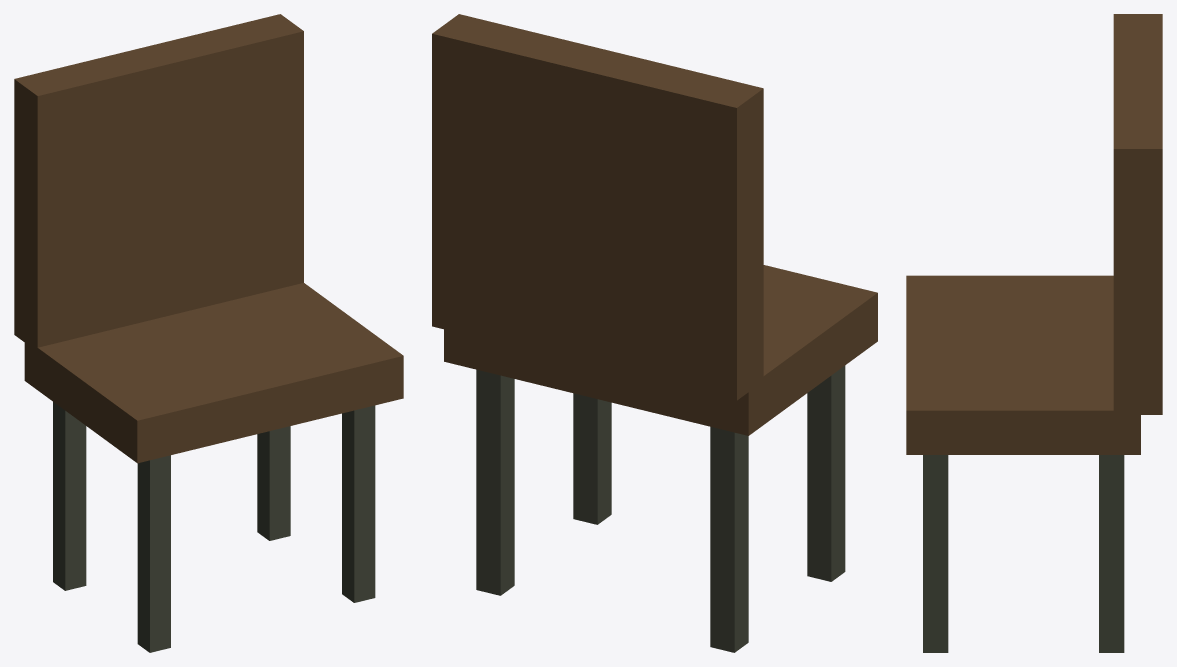
Rendered from chair.glb.
3 views of the same model, side by side, from view 1: azimuth 30°, elevation 25°; view 2: azimuth 150°, elevation 25°; view 3: azimuth 270°, elevation 25° (orthographic). The views are drawn at different scales.
Parts seen in each view (by area): view 1: REF-L06-R01-chair-part-2, REF-L06-R01-chair-part-1, REF-L06-R01-chair-part-6, REF-L06-R01-chair-part-4, REF-L06-R01-chair-part-3, REF-L06-R01-chair-part-5; view 2: REF-L06-R01-chair-part-2, REF-L06-R01-chair-part-1, REF-L06-R01-chair-part-5, REF-L06-R01-chair-part-3, REF-L06-R01-chair-part-4, REF-L06-R01-chair-part-6; view 3: REF-L06-R01-chair-part-1, REF-L06-R01-chair-part-2, REF-L06-R01-chair-part-5, REF-L06-R01-chair-part-6.
Boxes of the visible parts, left/top/right/bottom form: REF-L06-R01-chair-part-2: left=14, top=14, right=303, bottom=351; REF-L06-R01-chair-part-1: left=24, top=283, right=403, bottom=463; REF-L06-R01-chair-part-6: left=342, top=405, right=375, bottom=602; REF-L06-R01-chair-part-4: left=137, top=455, right=170, bottom=652; REF-L06-R01-chair-part-3: left=53, top=402, right=86, bottom=590; REF-L06-R01-chair-part-5: left=257, top=426, right=290, bottom=540; REF-L06-R01-chair-part-2: left=432, top=14, right=763, bottom=400; REF-L06-R01-chair-part-1: left=444, top=265, right=877, bottom=435; REF-L06-R01-chair-part-5: left=476, top=369, right=514, bottom=595; REF-L06-R01-chair-part-3: left=710, top=426, right=748, bottom=652; REF-L06-R01-chair-part-4: left=807, top=365, right=845, bottom=581; REF-L06-R01-chair-part-6: left=573, top=393, right=611, bottom=524; REF-L06-R01-chair-part-1: left=906, top=275, right=1140, bottom=454; REF-L06-R01-chair-part-2: left=1113, top=14, right=1162, bottom=414; REF-L06-R01-chair-part-5: left=1099, top=455, right=1124, bottom=652; REF-L06-R01-chair-part-6: left=923, top=455, right=948, bottom=652.
Size of the model in its own units: 0.1634 by 0.29 by 0.131.
